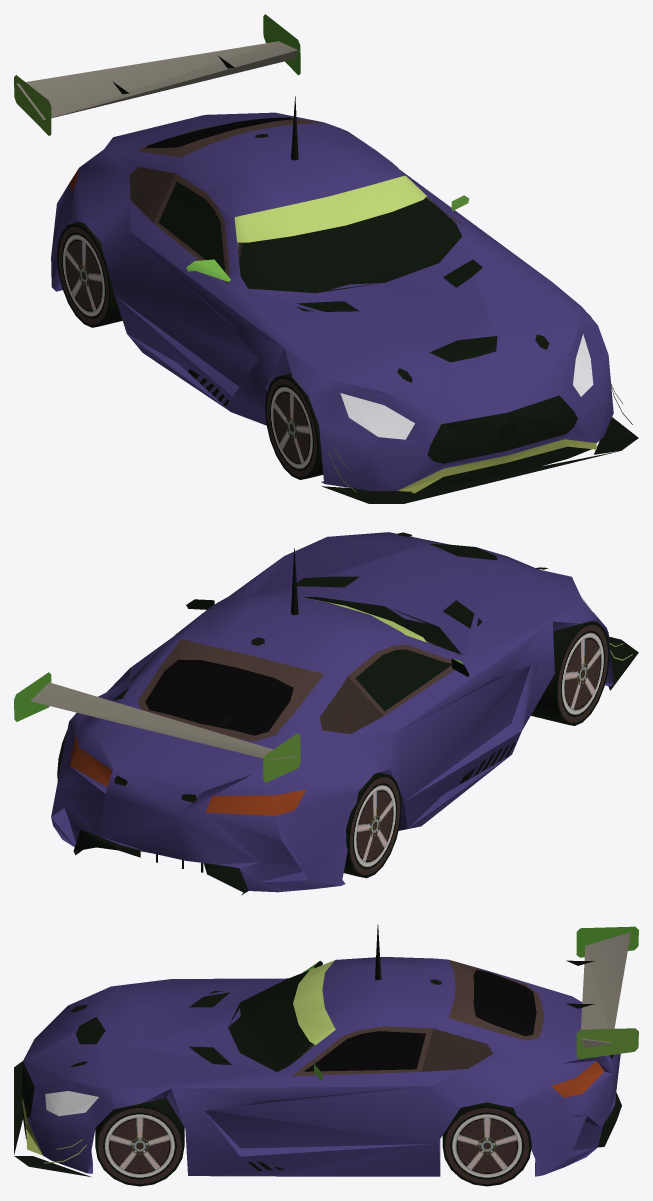
The model's file is tristar-efficient.glb.
3 views of the same model, one above another, from view 1: azimuth 30°, elevation 25°; view 2: azimuth 150°, elevation 25°; view 3: azimuth 270°, elevation 25° (orthographic). The views are drawn at different scales.
Parts seen in each view (by area): view 1: Body, rear wheel 3, front wheel 1; view 2: Body, front wheel 1, rear wheel 3; view 3: Body, front wheel 2, rear wheel 4.
Part boxes in pixels (box(x1,y1,x2,y2)): Body: box(14, 14, 638, 503); rear wheel 3: box(57, 222, 122, 327); front wheel 1: box(265, 373, 323, 479); Body: box(14, 532, 638, 895); front wheel 1: box(531, 621, 609, 725); rear wheel 3: box(343, 772, 401, 878); Body: box(14, 924, 638, 1176); front wheel 2: box(95, 1098, 184, 1186); rear wheel 4: box(442, 1102, 531, 1186).
Size of the model in its own units: 1.9 by 1.52 by 4.24.
Materials: 6 (5 with a texture image).
